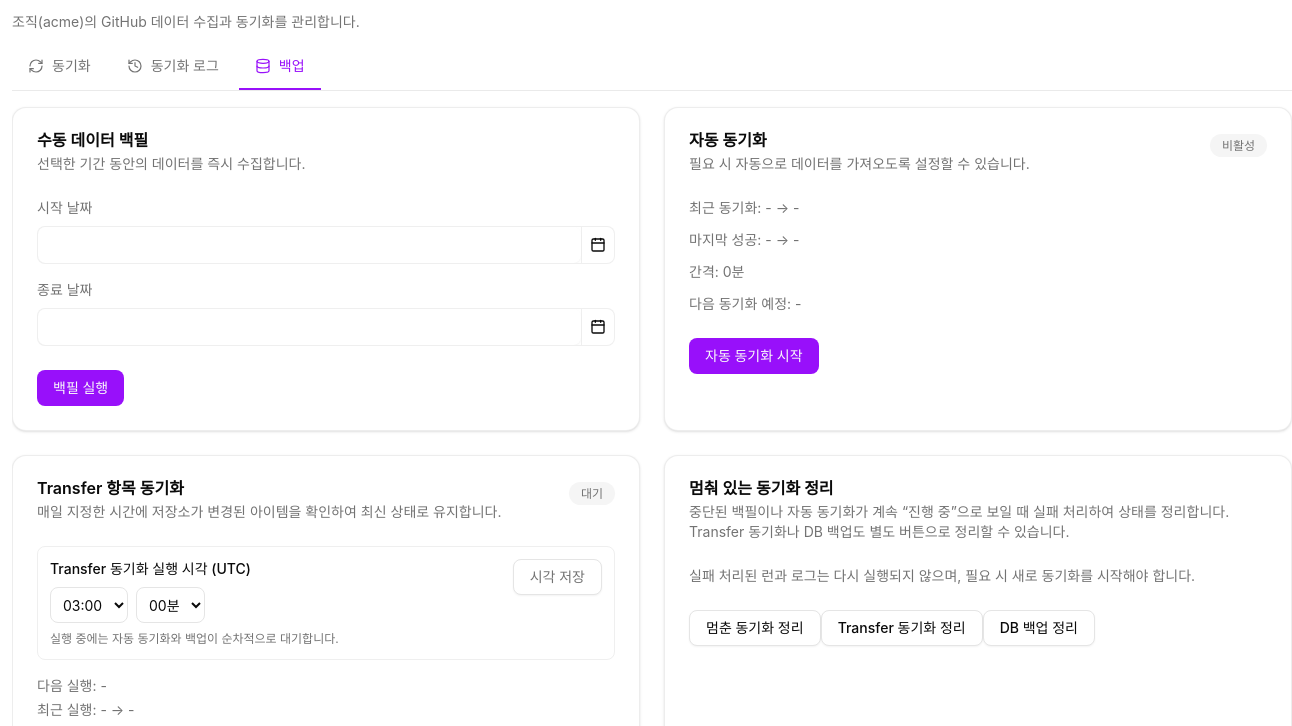
Scenario: SyncControls › validates the sync interval before toggling automatic sync
Click the button "자동 동기화 시작" at (754, 356), box [689, 338, 819, 374]
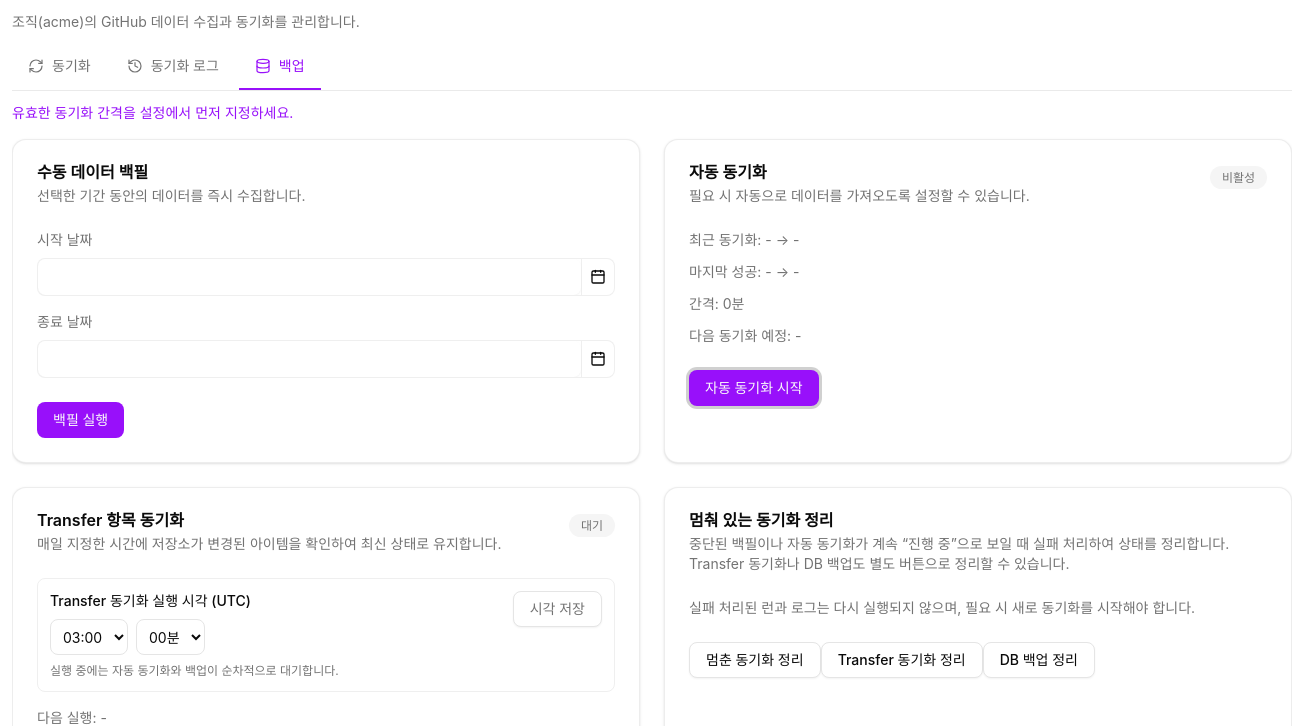
Expected: the text "유효한 동기화 간격을 설정에서 먼저 지정하세요." is shown, [12, 104, 293, 121]
